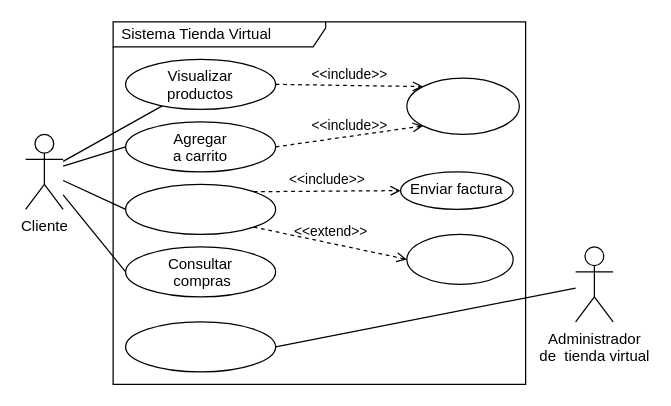
Image size: 671x406. Some labels were removed from this diagram. Each missing label, with the centre of its shape:
Administrar precios: the point at 200,346
Generar cupón: the point at 459,258
Realizar pago: the point at 200,208
Verificar existencia: the point at 462,105
